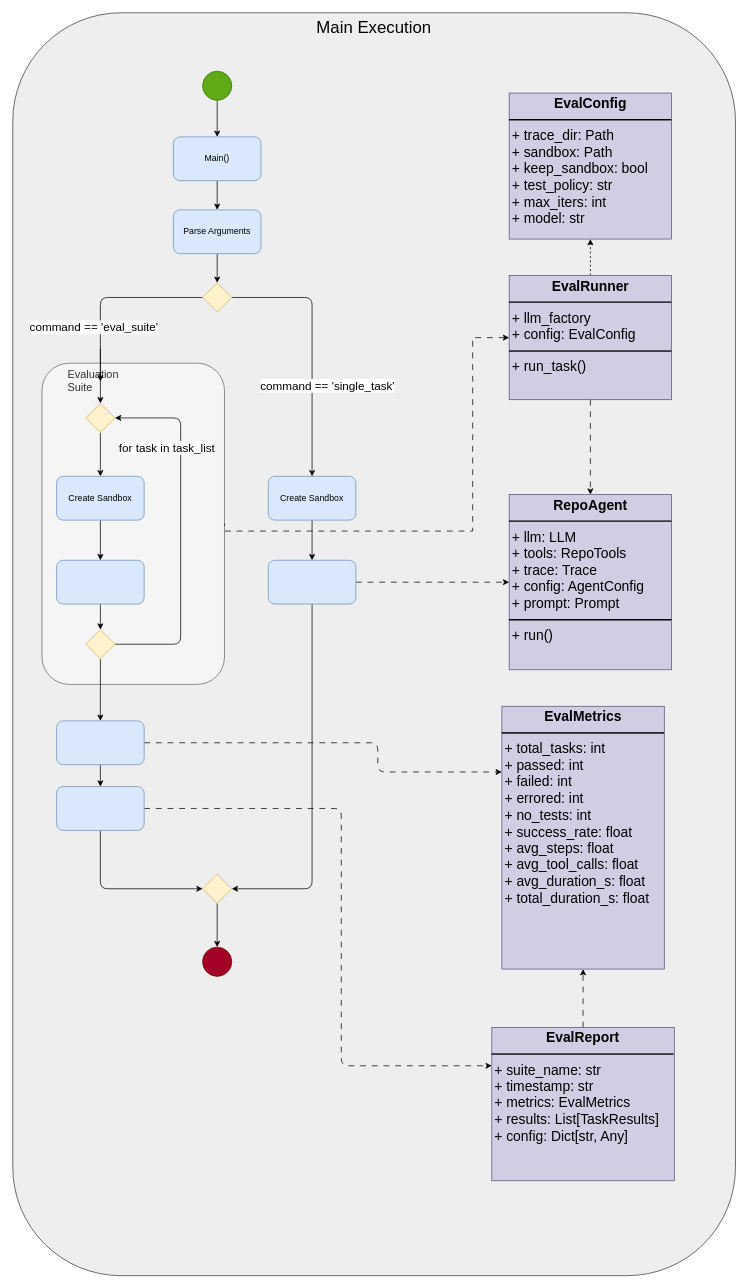
This 748x1288 diagram has some shape labels left out. Here are the shapes that lost their labels. From the top down, the centre of each, then its label:
At [217,85]: "Start".
At [100,582]: "RunTask (Agent Workflow)".
At [312,582]: "Run (Agent Workflow)".
At [100,742]: "Compute Metrics".
At [100,808]: "Generate Report".
At [217,961]: "End".
